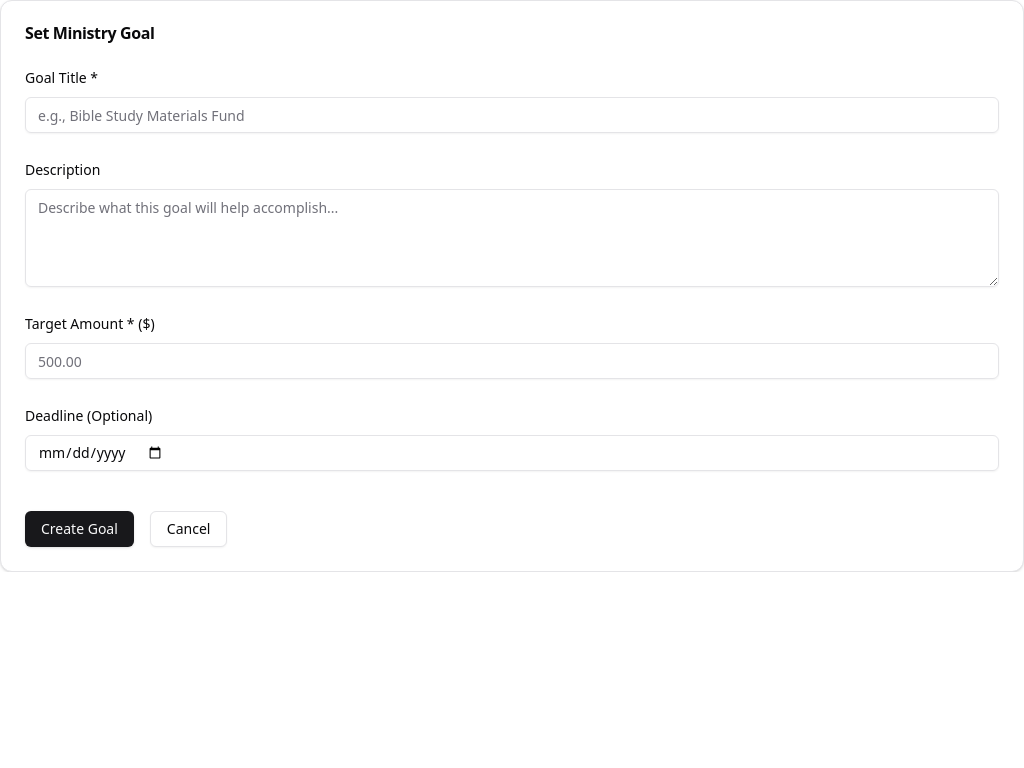
Scenario: NewGoalPage › shows loading state during submission
Type "Test Goal" into the field labelled "Goal Title *". click: (512, 115)
box: x1=25 y1=97 x2=999 y2=133
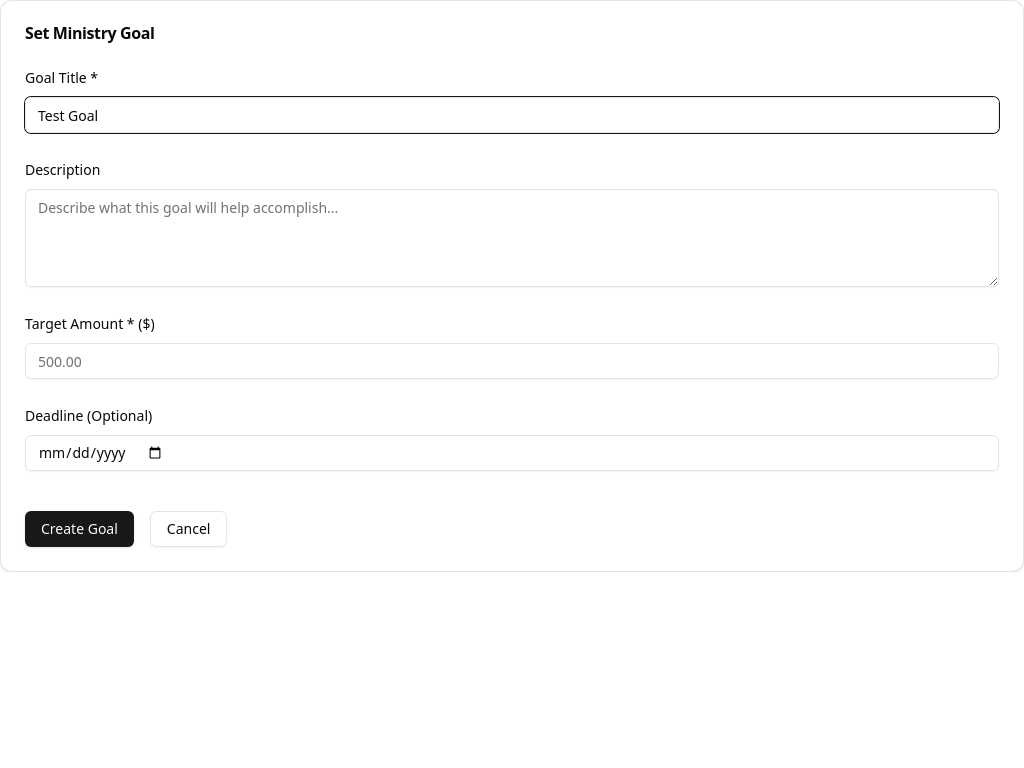
Type "100" into the number field labelled "Target Amount * ($)". click: (512, 361)
box: x1=25 y1=343 x2=999 y2=379
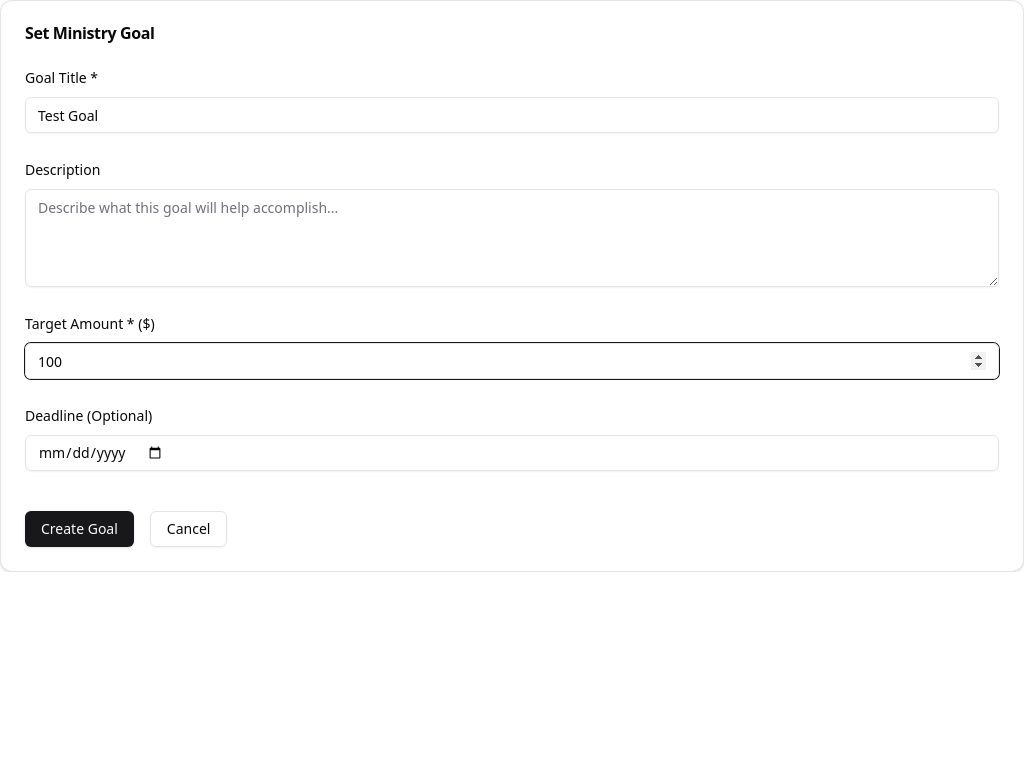
Click the button "Create Goal". click: (79, 529)
box: x1=25 y1=511 x2=134 y2=547
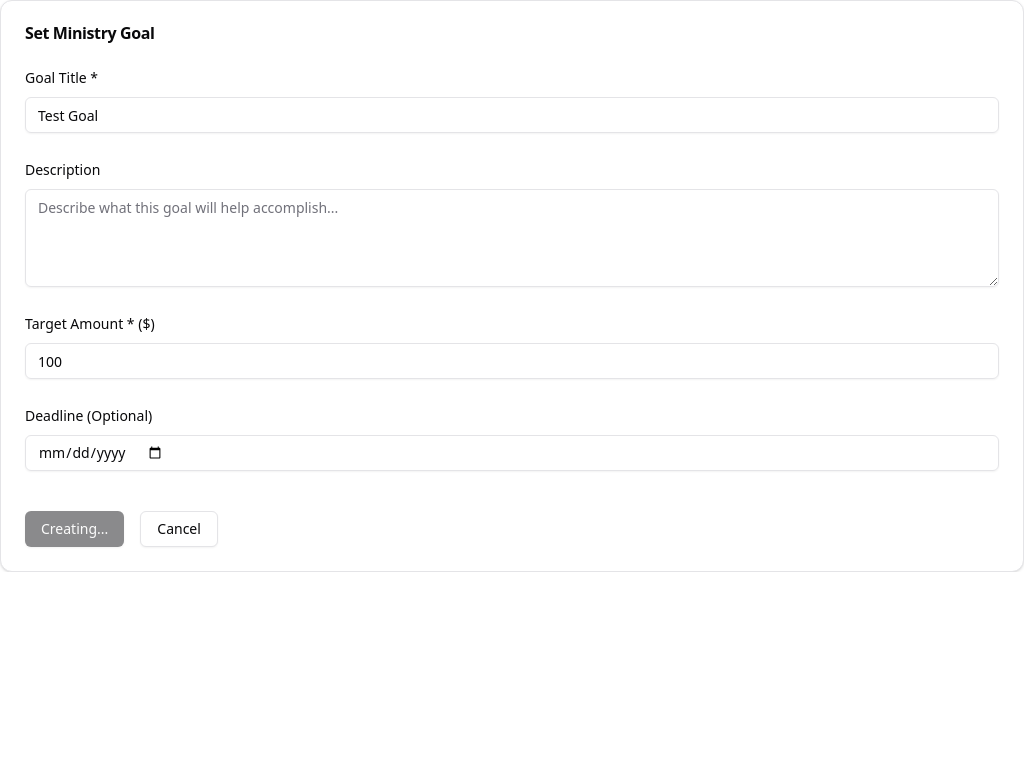
Expected: the button "Creating..." is disabled, x1=25 y1=511 x2=124 y2=547
